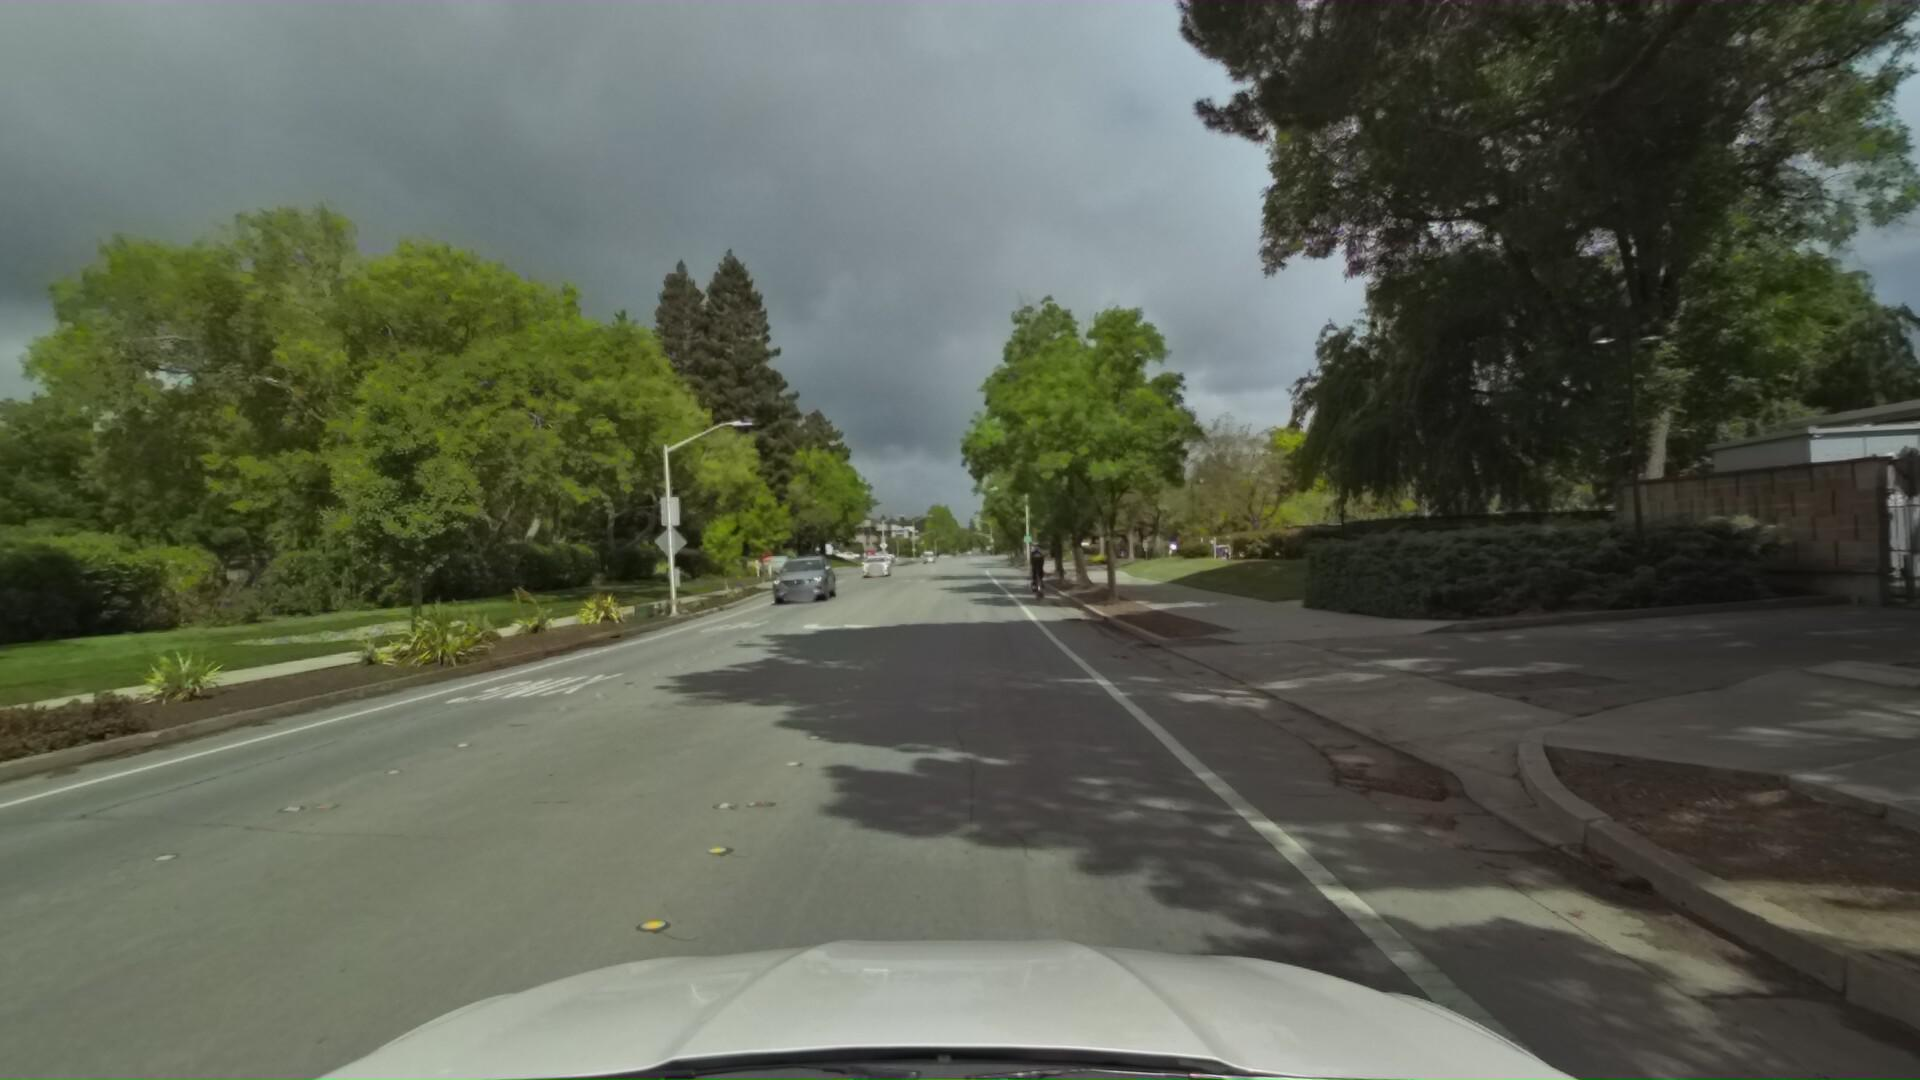bicycle: (1017, 543, 1054, 603)
car: (762, 549, 836, 604), (858, 551, 891, 576)
